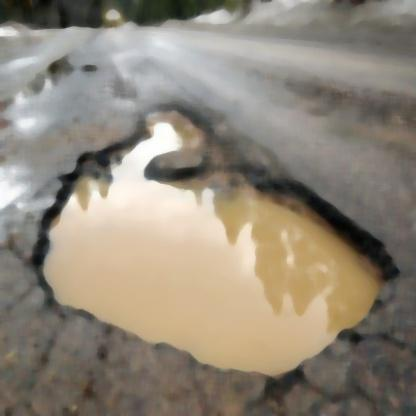Potholes: (53, 100, 396, 384)
